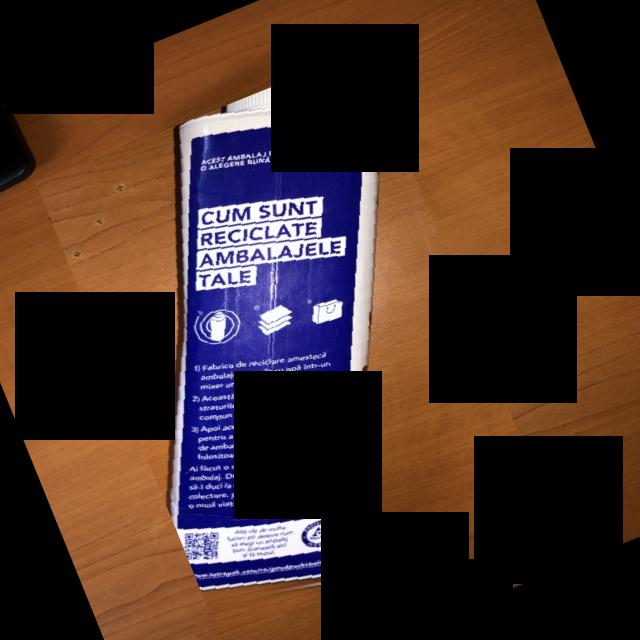milk: (36, 48, 548, 640)
